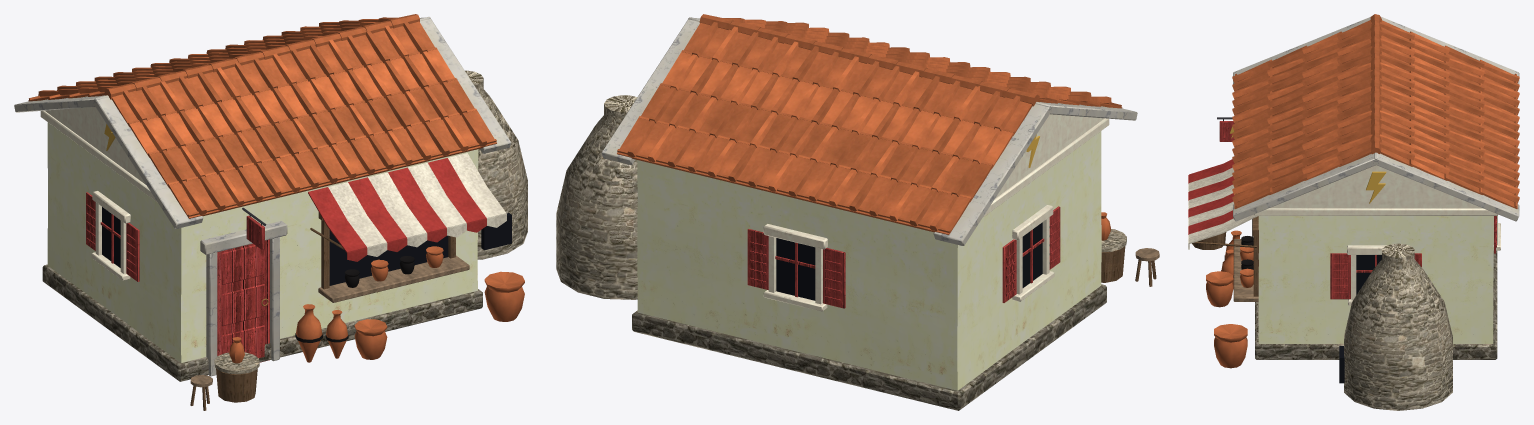
The model's file is biz_pottery_t1.glb.
The picture shows the model from 3 angles, left to right: view 1: azimuth 30°, elevation 25°; view 2: azimuth 150°, elevation 25°; view 3: azimuth 270°, elevation 25°; orthographic projection. The views are drawn at different scales.
Parts seen in each view (by area): view 1: plaster, terracotta0, terracotta1, terracotta2, marble, red_wood, cloth_red, cloth_cream, stone_dark, terracotta, stone, cream (+4 smaller); view 2: plaster, terracotta0, terracotta1, terracotta2, stone, stone_dark, cream, marble, red_wood, dark, wood_dark; view 3: plaster, terracotta0, terracotta1, stone, terracotta2, cream, marble, terracotta, stone_dark, cloth_cream, cloth_red, red_wood (+4 smaller).
Part boxes in pixels (left/top/right/bottom): plaster: left=47, top=122, right=478, bottom=362; terracotta0: left=28, top=17, right=496, bottom=218; terracotta1: left=29, top=14, right=496, bottom=217; terracotta2: left=48, top=19, right=476, bottom=205; marble: left=14, top=17, right=511, bottom=376; red_wood: left=86, top=192, right=269, bottom=362; cloth_red: left=308, top=158, right=486, bottom=261; cloth_cream: left=328, top=153, right=506, bottom=256; stone_dark: left=42, top=264, right=482, bottom=381; terracotta: left=229, top=246, right=524, bottom=363; stone: left=214, top=70, right=527, bottom=374; cream: left=40, top=107, right=157, bottom=280; plaster: left=637, top=131, right=1101, bottom=390; terracotta0: left=617, top=18, right=1122, bottom=234; terracotta1: left=617, top=14, right=1121, bottom=232; terracotta2: left=639, top=19, right=1100, bottom=221; stone: left=556, top=95, right=1126, bottom=299; stone_dark: left=632, top=284, right=1106, bottom=410; cream: left=763, top=114, right=1109, bottom=311; marble: left=601, top=17, right=1137, bottom=245; red_wood: left=747, top=206, right=1060, bottom=308; dark: left=776, top=222, right=1042, bottom=300; wood_dark: left=1101, top=246, right=1156, bottom=286; plaster: left=1258, top=216, right=1493, bottom=343; terracotta0: left=1232, top=20, right=1519, bottom=208; terracotta1: left=1232, top=14, right=1519, bottom=208; stone: left=1344, top=243, right=1452, bottom=410; terracotta2: left=1232, top=32, right=1519, bottom=195; cream: left=1253, top=165, right=1500, bottom=305; marble: left=1233, top=16, right=1519, bottom=237; terracotta: left=1206, top=230, right=1253, bottom=368; stone_dark: left=1255, top=250, right=1497, bottom=359; cloth_cream: left=1188, top=167, right=1257, bottom=249; cloth_red: left=1188, top=159, right=1234, bottom=234; red_wood: left=1219, top=121, right=1496, bottom=299.
Size of the model in its own units: 7.97 by 4.25 by 5.93.
Materials: 20 (16 with a texture image).
